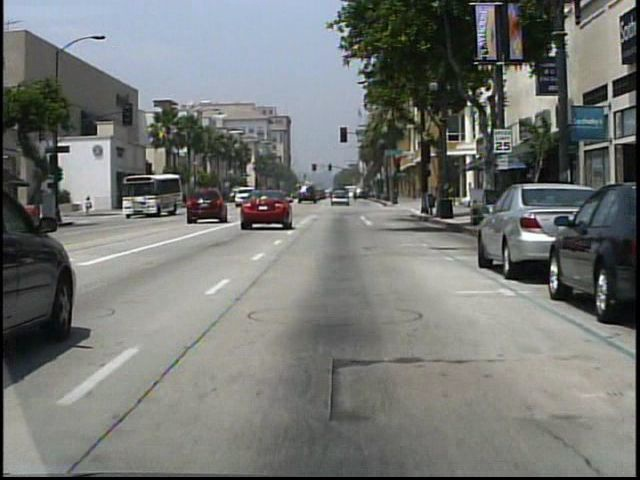person: (86, 195, 93, 215)
